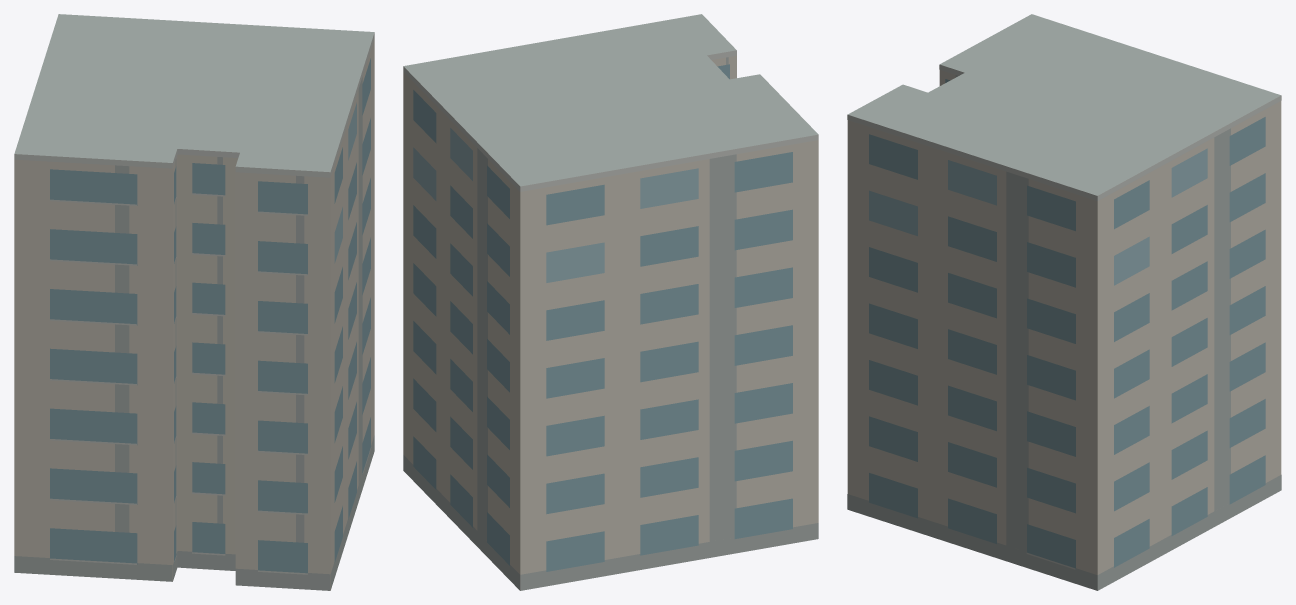
The model's file is survey-upis-32704581.glb.
The picture shows the model from 3 angles, left to right: view 1: azimuth 30°, elevation 25°; view 2: azimuth 150°, elevation 25°; view 3: azimuth 270°, elevation 25°; orthographic projection. The views are drawn at different scales.
Parts seen in each view (by area): view 1: survey-upis-32704581.tmp; view 2: survey-upis-32704581.tmp; view 3: survey-upis-32704581.tmp.
Boxes of the visible parts, x1,y1,x2,y2 form: survey-upis-32704581.tmp: [14, 14, 374, 590]; survey-upis-32704581.tmp: [403, 14, 818, 590]; survey-upis-32704581.tmp: [847, 14, 1281, 590].
Bounding box in the file's own units: 17.99 × 18.2 × 18.13.
